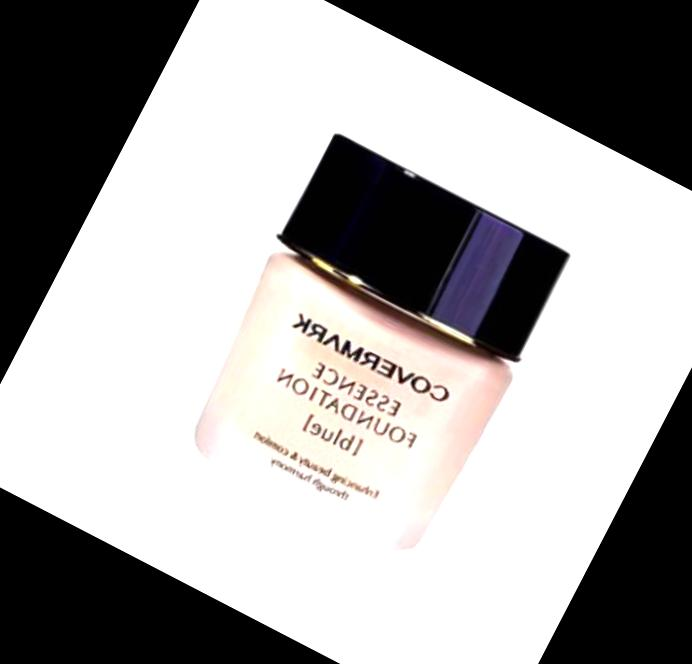cosmetic: (168, 129, 577, 570)
